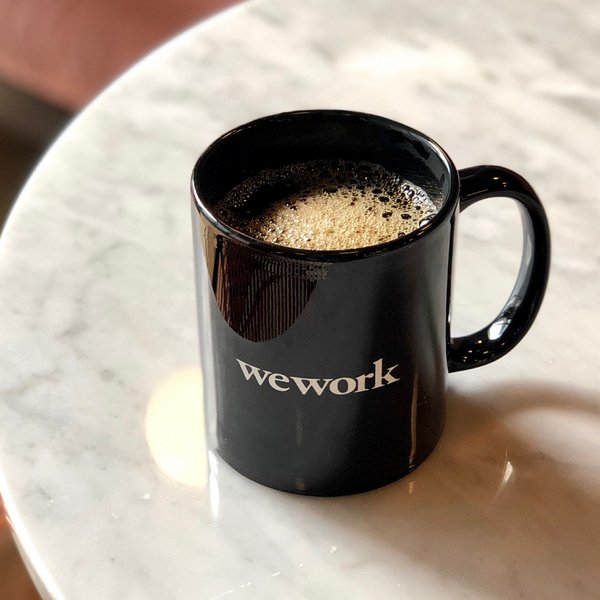wework: (232, 354, 404, 398)
